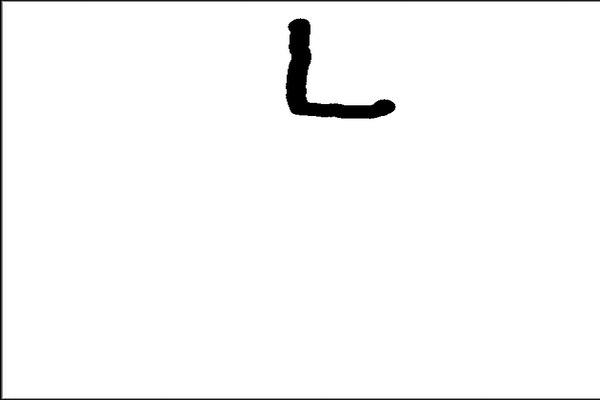L: (276, 11, 401, 128)
